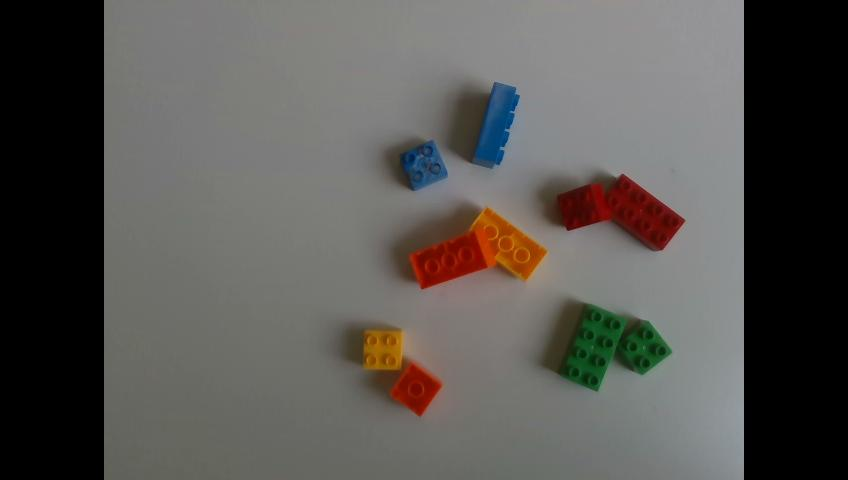2x2_blue: (400, 140, 447, 188)
2x2_green: (616, 320, 671, 379)
2x2_orange: (391, 363, 441, 416)
2x2_red: (559, 182, 611, 231)
2x2_yellow: (364, 330, 403, 368)
4x2_blue: (472, 81, 519, 170)
4x2_green: (557, 305, 627, 390)
4x2_orange: (407, 227, 494, 287)
4x2_red: (607, 174, 683, 248)
4x2_yellow: (465, 206, 546, 281)
